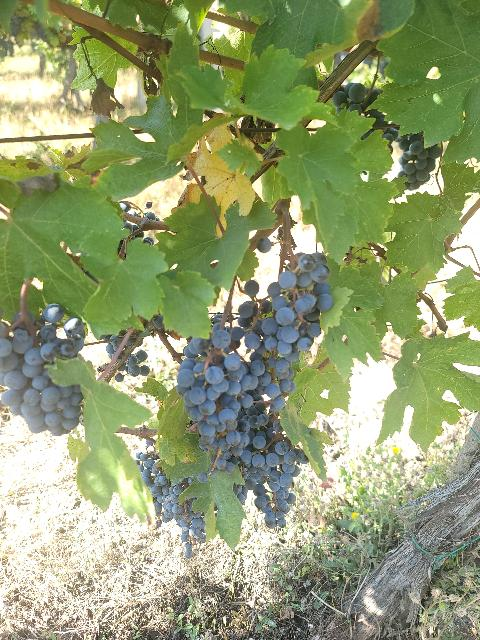grapes: (0, 304, 86, 436), (176, 322, 256, 449), (261, 252, 334, 362), (136, 448, 206, 558), (251, 440, 300, 529)
